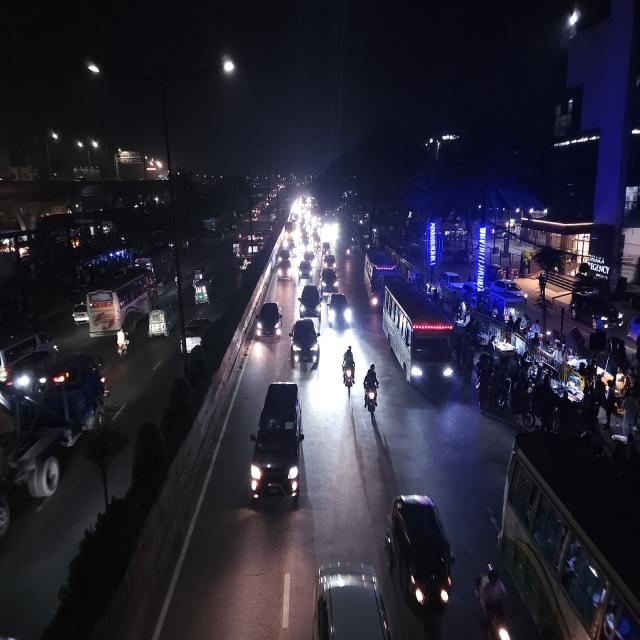bus: (498, 430, 640, 640), (380, 279, 460, 396), (85, 267, 153, 334), (361, 245, 395, 310)
car: (248, 378, 306, 514), (308, 558, 399, 640), (0, 328, 59, 384), (290, 315, 320, 371), (178, 314, 214, 356), (254, 297, 283, 344), (327, 288, 353, 332), (440, 269, 477, 299), (298, 281, 322, 320), (274, 248, 293, 284), (320, 268, 340, 297), (296, 257, 316, 283), (71, 302, 89, 326), (320, 252, 338, 270)
cng: (386, 489, 457, 628), (148, 301, 174, 342), (192, 267, 212, 307)
motorcycle: (477, 564, 513, 640), (362, 359, 380, 421), (340, 343, 357, 396), (114, 325, 132, 361), (345, 242, 353, 260)
truck: (0, 346, 110, 498)
